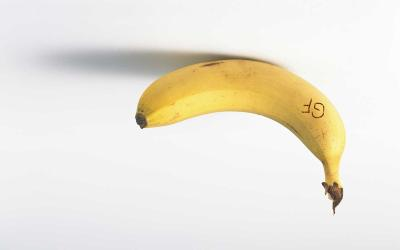banana: (0, 0, 400, 250)
